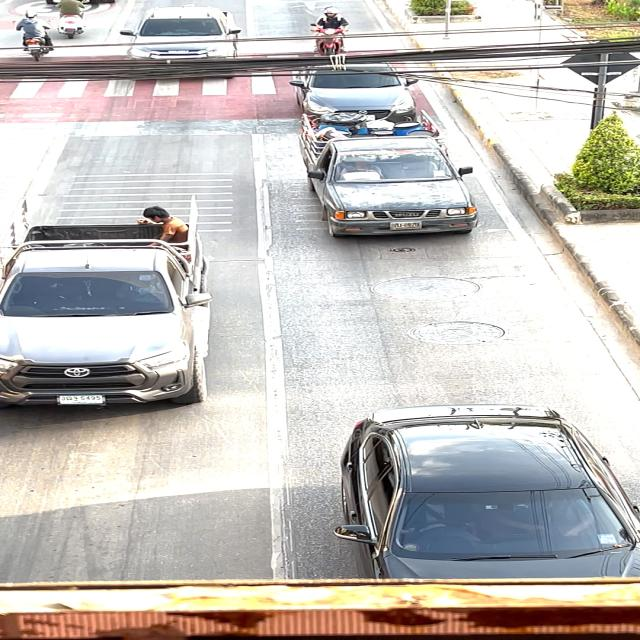car: (314, 390, 640, 583), (6, 210, 222, 410), (288, 108, 506, 244), (273, 36, 438, 128), (110, 0, 258, 82)
